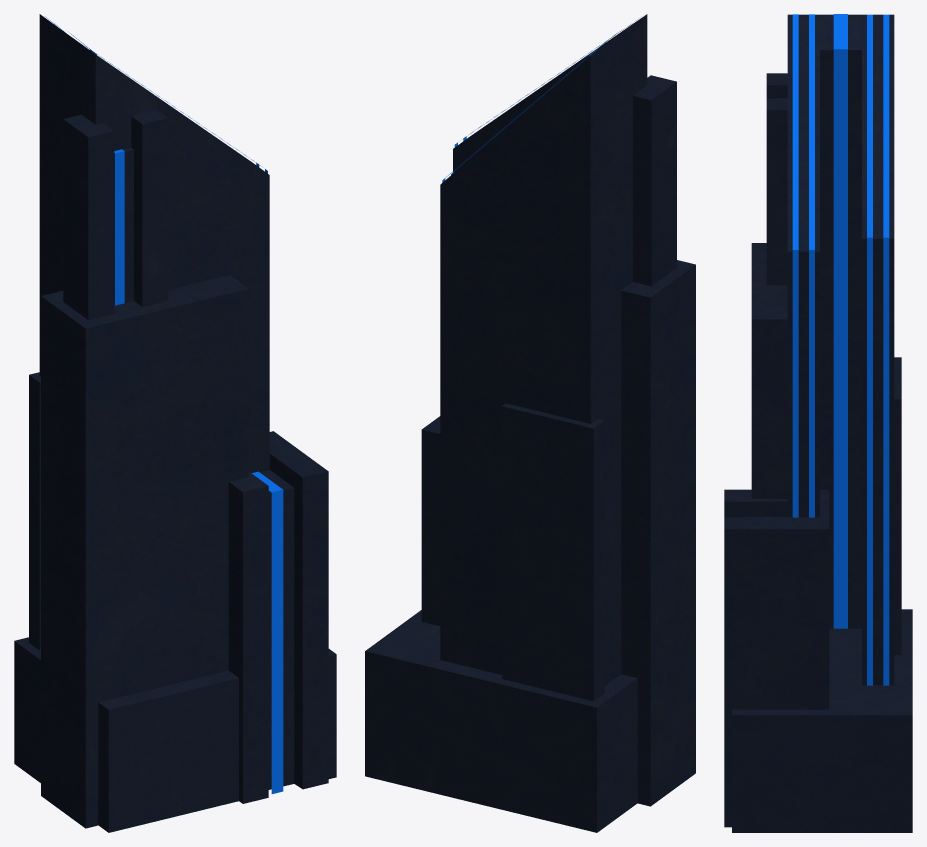
Rendered from Green Building.fbx.
3 views of the same model, side by side, from view 1: azimuth 30°, elevation 25°; view 2: azimuth 150°, elevation 25°; view 3: azimuth 270°, elevation 25° (orthographic). The views are drawn at different scales.
Parts seen in each view (by area): view 1: Green Building, Neon2; view 2: Green Building; view 3: Green Building, Neon2.
Part boxes in pixels (x1,y1,x2,y2): Green Building: (14, 14, 336, 832); Neon2: (45, 16, 283, 793); Green Building: (365, 14, 695, 832); Green Building: (724, 14, 912, 832); Neon2: (792, 14, 889, 685).
Bounding box in the file's own units: 50.42 × 153 × 35.69.
